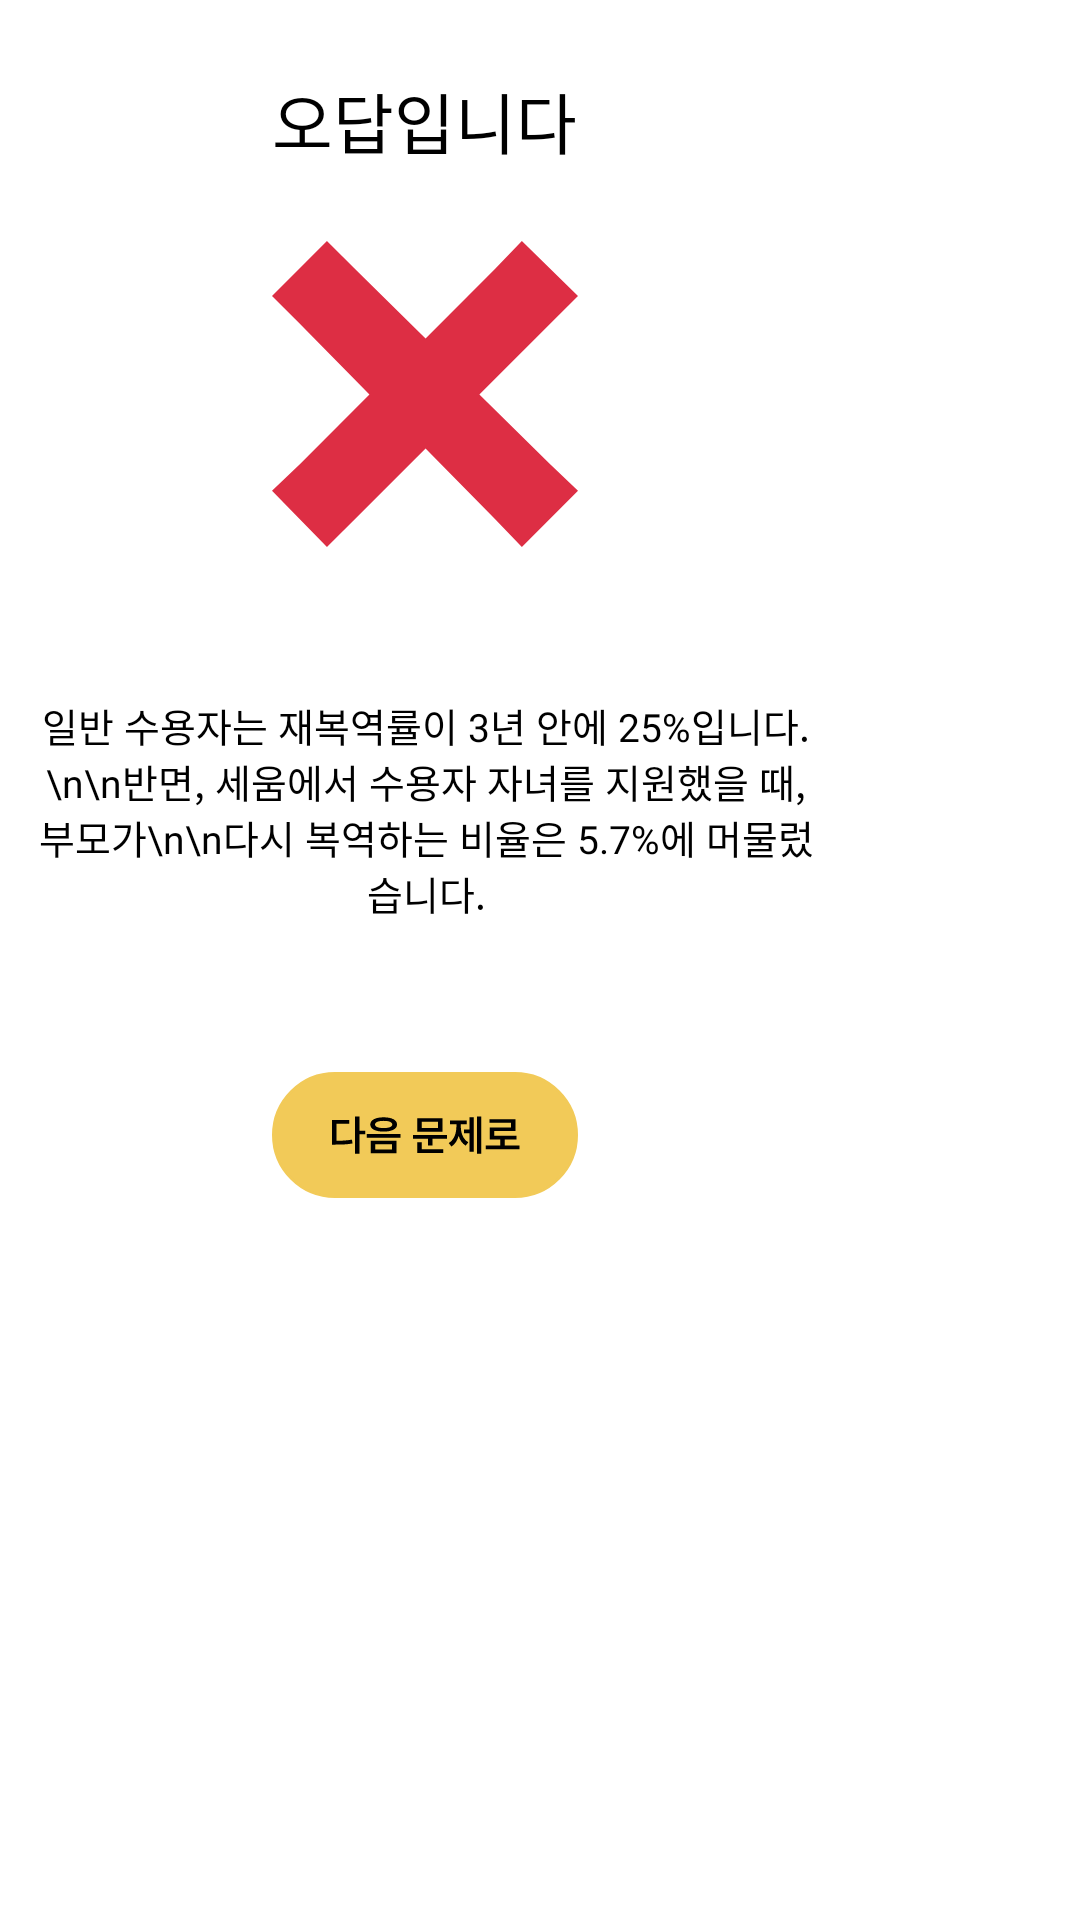

Icon bounding boxes for this 1080w x 1920h phone screenshot, format (x1, y1, x2, y2):
home quiz popup wrong: (272, 241, 578, 547)
